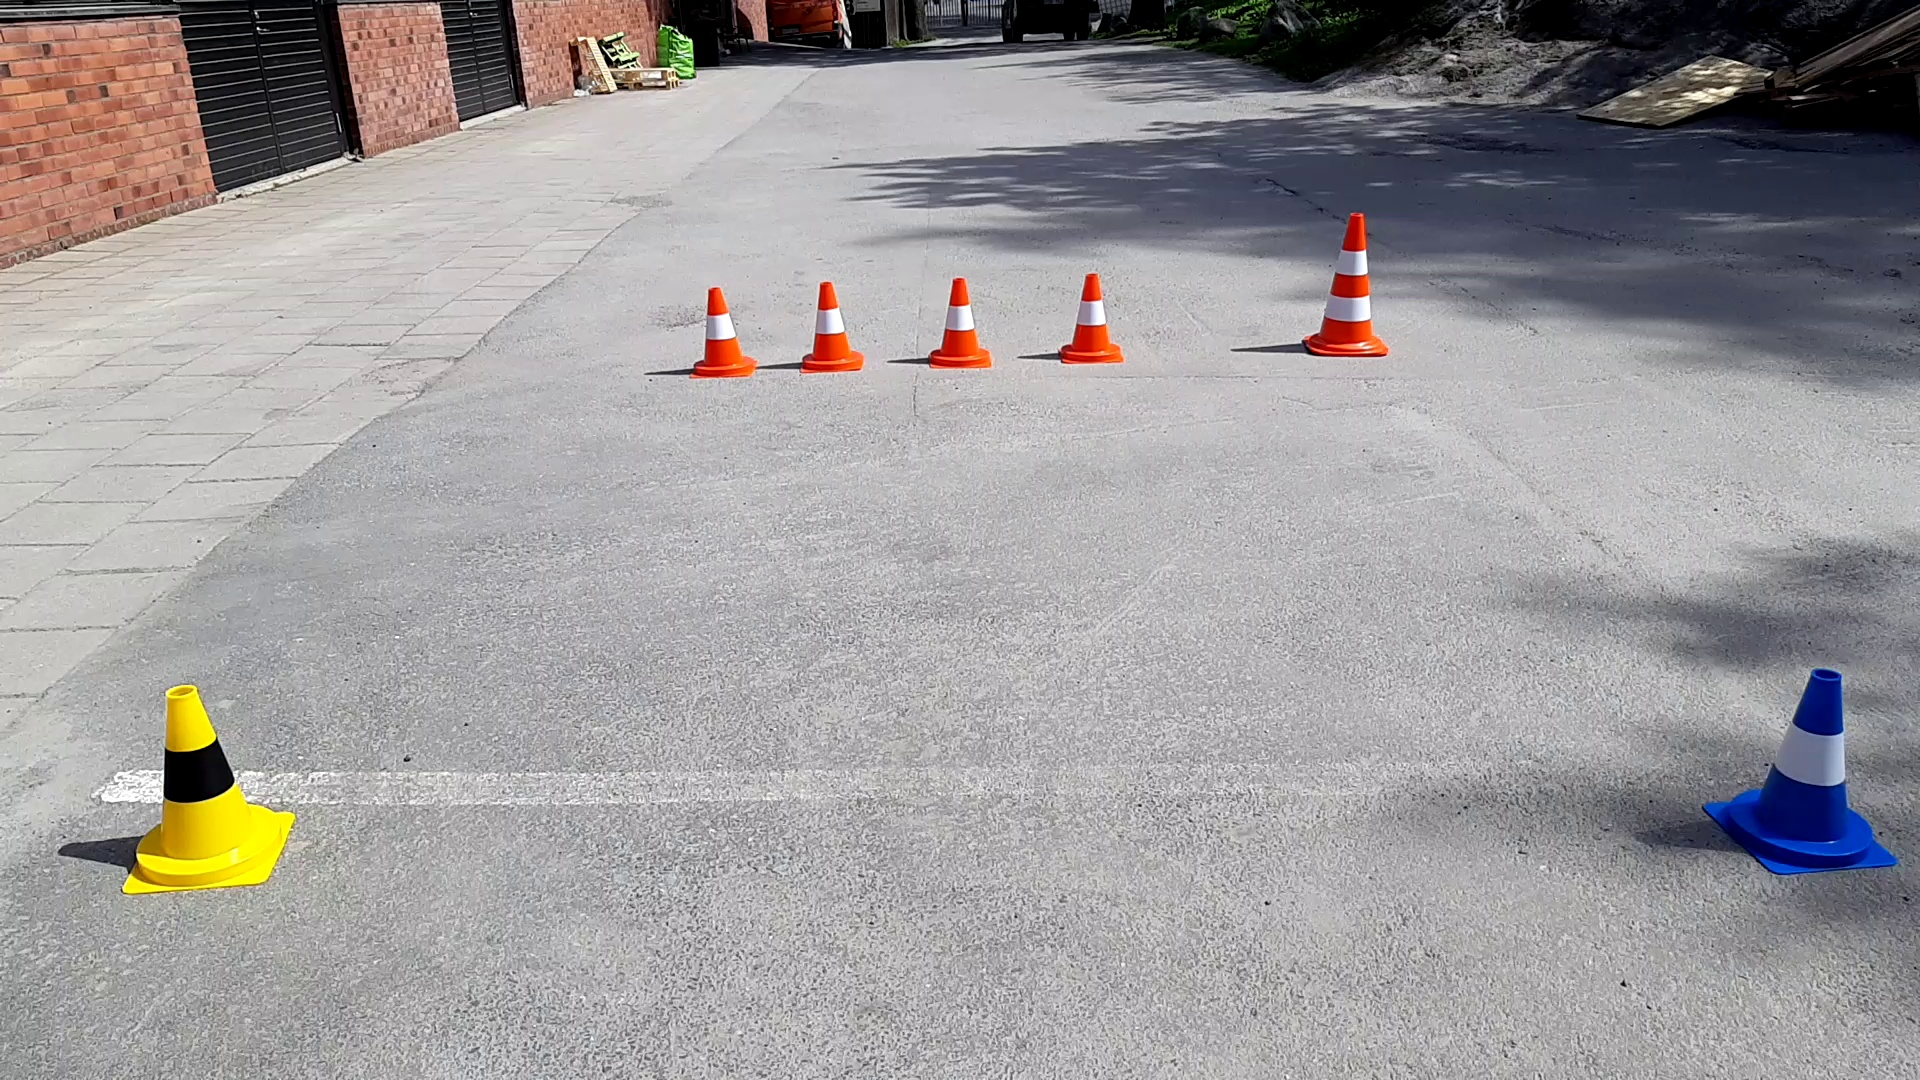Cone: (127, 678, 284, 905), (1718, 666, 1879, 874), (1302, 211, 1389, 359), (796, 282, 868, 372), (928, 274, 992, 368), (1062, 272, 1126, 363), (688, 287, 752, 378)
